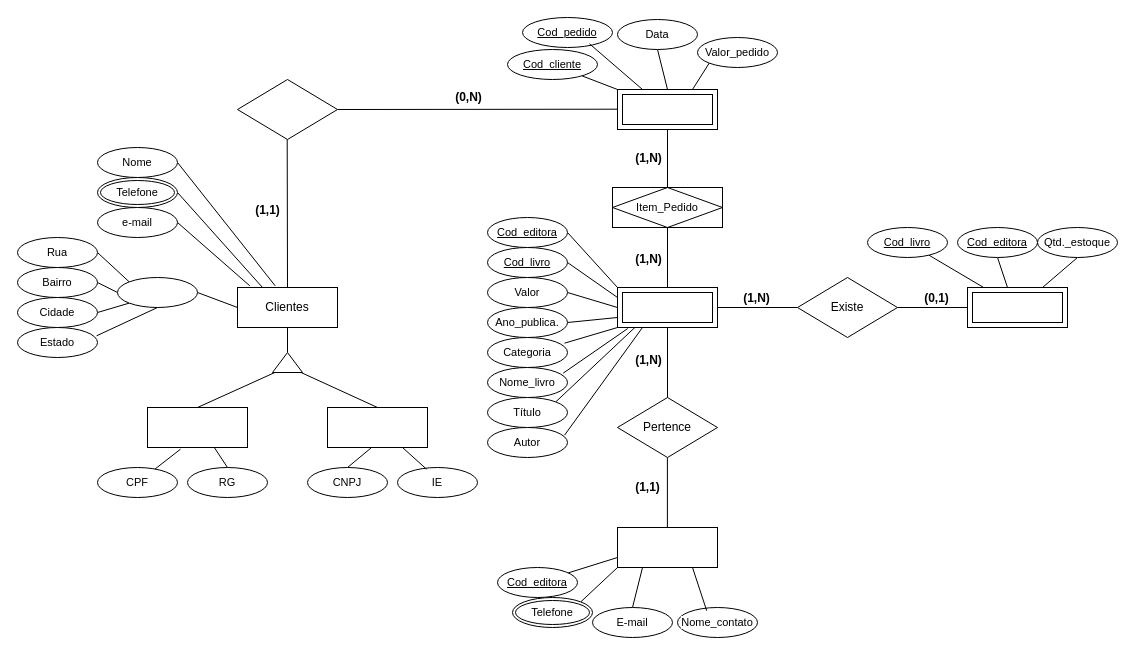
This 1135x655 diagram has some shape labels left out. Each missing label, with the centre of its shape:
Editoras: the point at 667,547
Endereço: the point at 157,292
Estoque: the point at 1017,307
Faz: the point at 287,109
Livros: the point at 667,307
Pedido: the point at 667,109
Pessoa física: the point at 197,427
Pessoa jurídica: the point at 377,427
